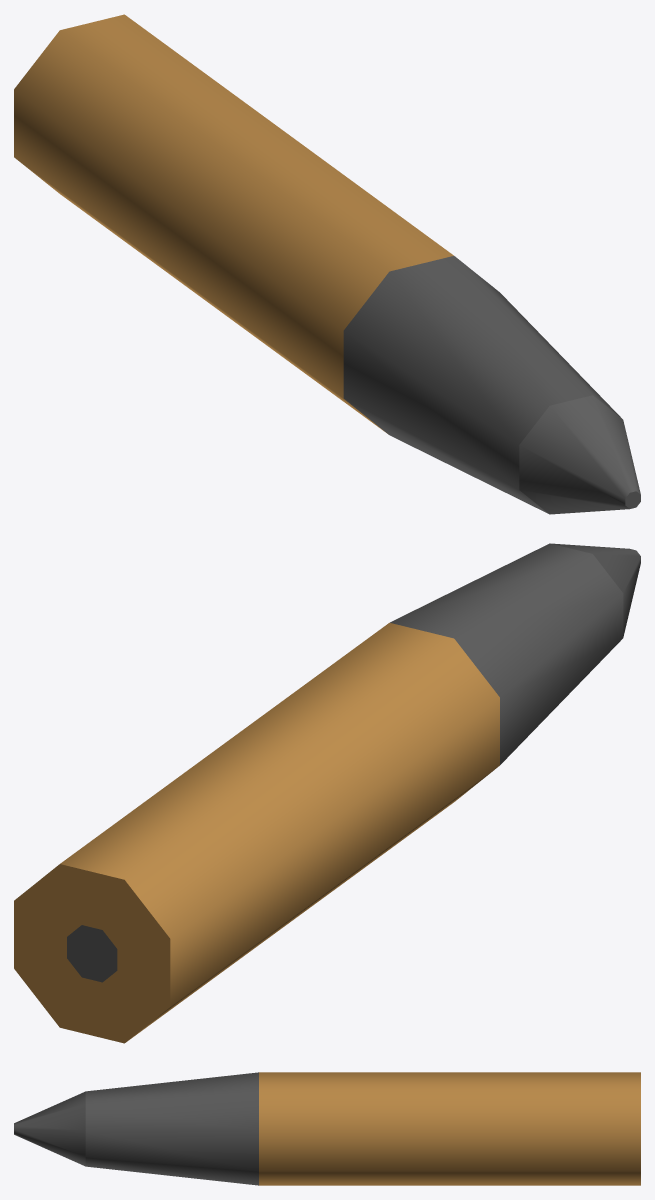
Rendered from Sniper Bullet.fbx.
3 views of the same model, one above another, from view 1: azimuth 30°, elevation 25°; view 2: azimuth 150°, elevation 25°; view 3: azimuth 270°, elevation 25° (orthographic). The views are drawn at different scales.
Parts seen in each view (by area): view 1: Sniper Bullet; view 2: Sniper Bullet; view 3: Sniper Bullet.
Part boxes in pixels (x1,y1,x2,y2): Sniper Bullet: (14, 14, 640, 514); Sniper Bullet: (14, 543, 640, 1043); Sniper Bullet: (14, 1072, 640, 1185).
Bounding box in the file's own units: 3.08 × 3.08 × 18.42.
